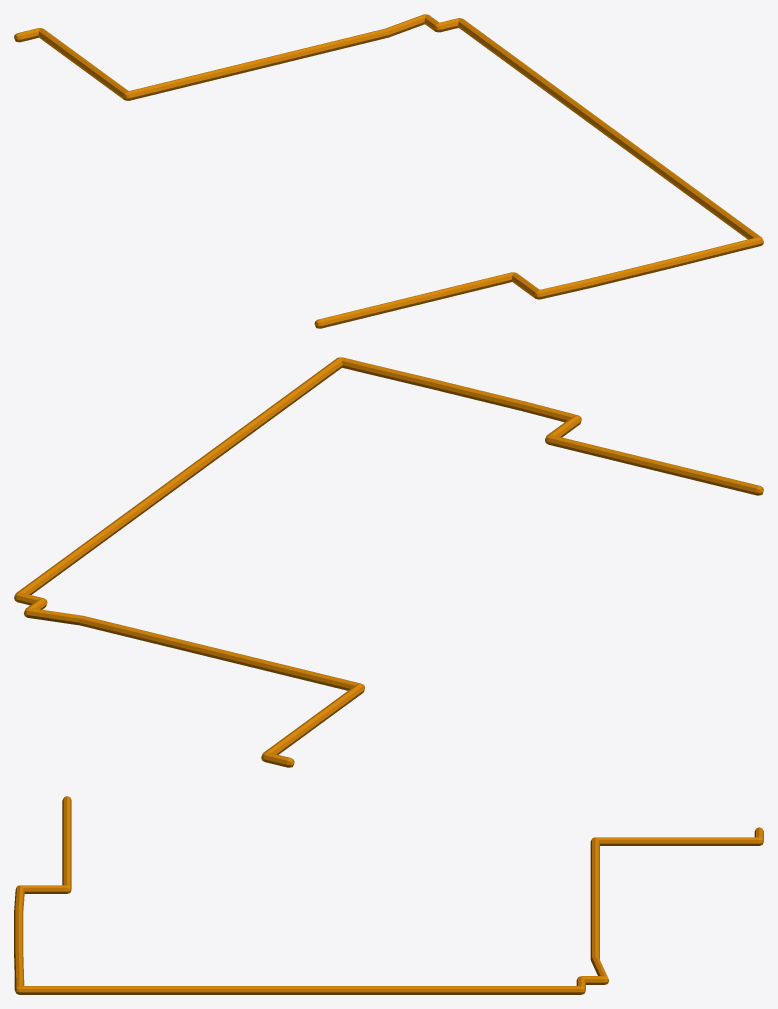
3 renders of one model, top to bottom at view 1: azimuth 30°, elevation 25°; view 2: azimuth 150°, elevation 25°; view 3: azimuth 270°, elevation 25°, orthographic. The views are drawn at different scales.
Bounding box in the file's own units: 980 × 20 × 1602.
